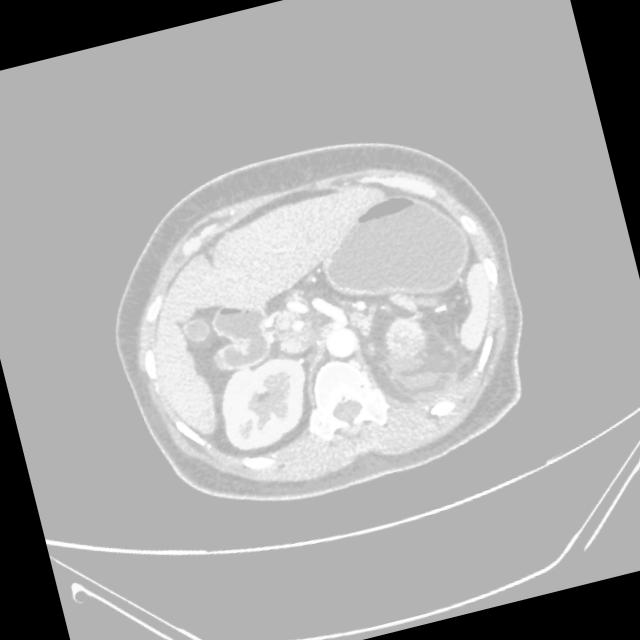TUMOR: (101, 175, 402, 431)
